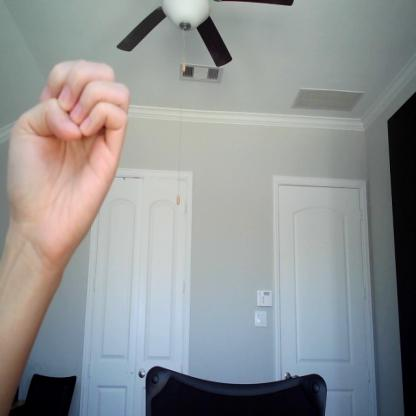E: (6, 55, 132, 276)
